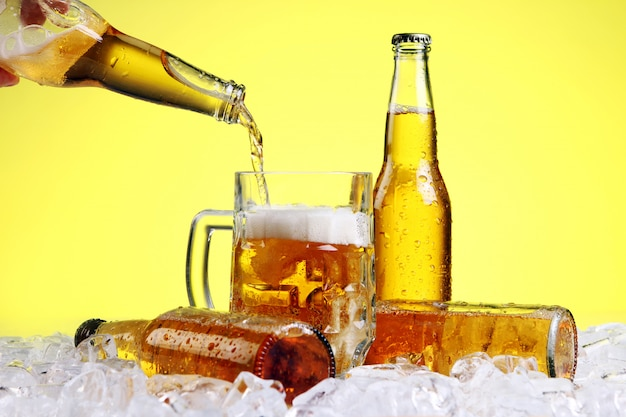alcohol: (191, 171, 381, 361), (0, 2, 245, 128), (74, 304, 339, 404), (367, 31, 454, 299), (370, 303, 581, 386)
